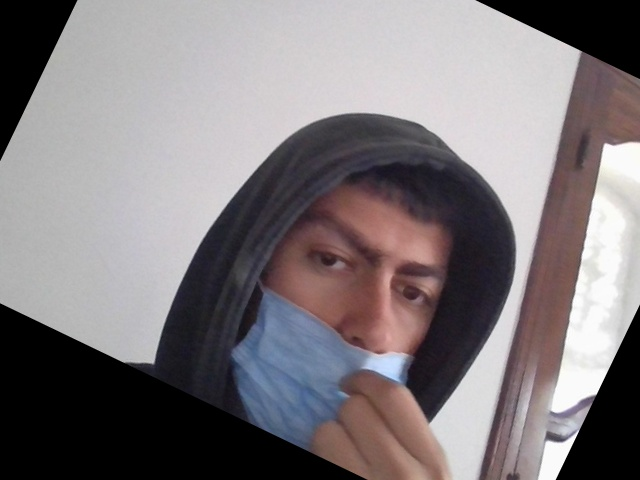mask_weared_incorrect: (234, 159, 488, 471)
